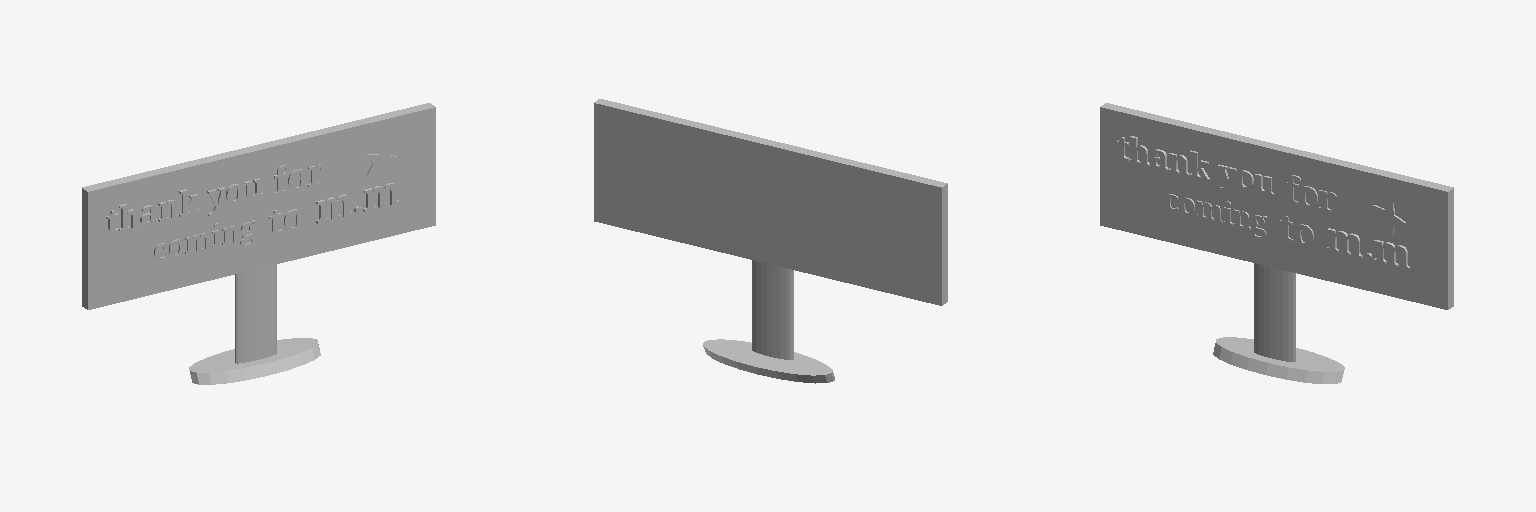
The model's file is kanban.obj.
3 views of the same model, side by side, from view 1: azimuth 30°, elevation 25°; view 2: azimuth 150°, elevation 25°; view 3: azimuth 330°, elevation 25° (orthographic).
Parts seen in each view (by area): view 1: obj_0; view 2: obj_0; view 3: obj_0.
Part boxes in pixels (x1,y1,x2,y2): obj_0: (82, 103, 435, 384); obj_0: (594, 99, 947, 383); obj_0: (1100, 103, 1453, 383).
Bounding box in the file's own units: 166 × 101 × 22.29.